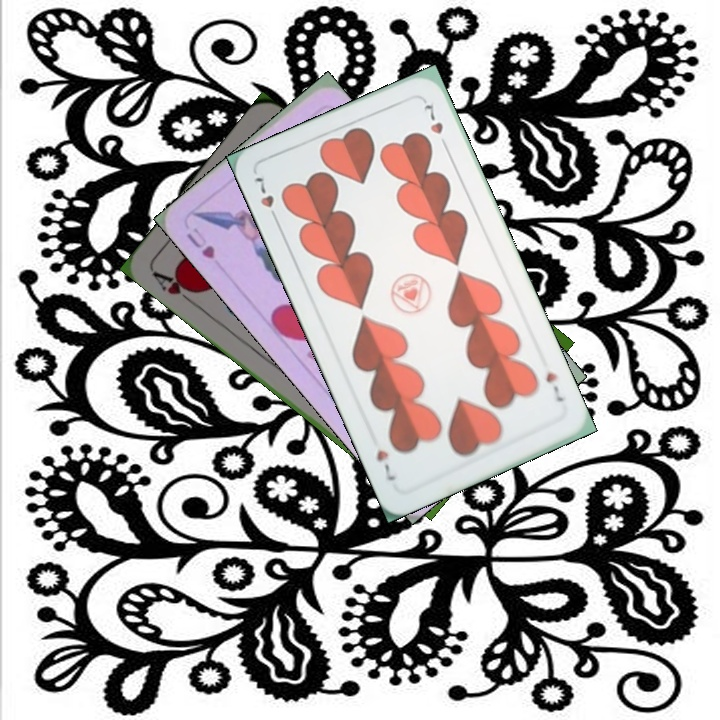H7: (250, 173, 282, 226), (541, 368, 567, 405)
HA: (148, 266, 201, 309)
HU: (182, 223, 218, 261)
